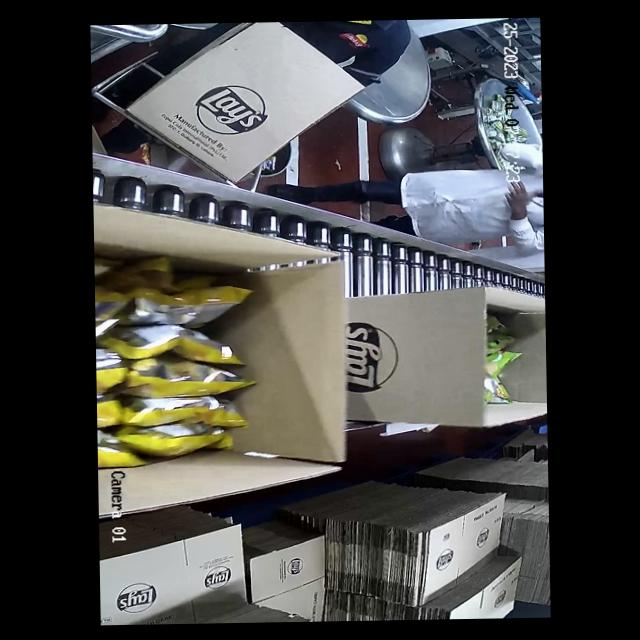salted: (93, 254, 260, 468)
yogurt: (482, 310, 528, 418)
